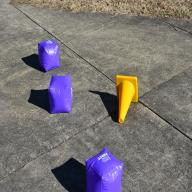cone: (115, 75, 138, 124)
cube: (85, 146, 123, 192), (48, 74, 73, 114), (38, 39, 60, 72)
